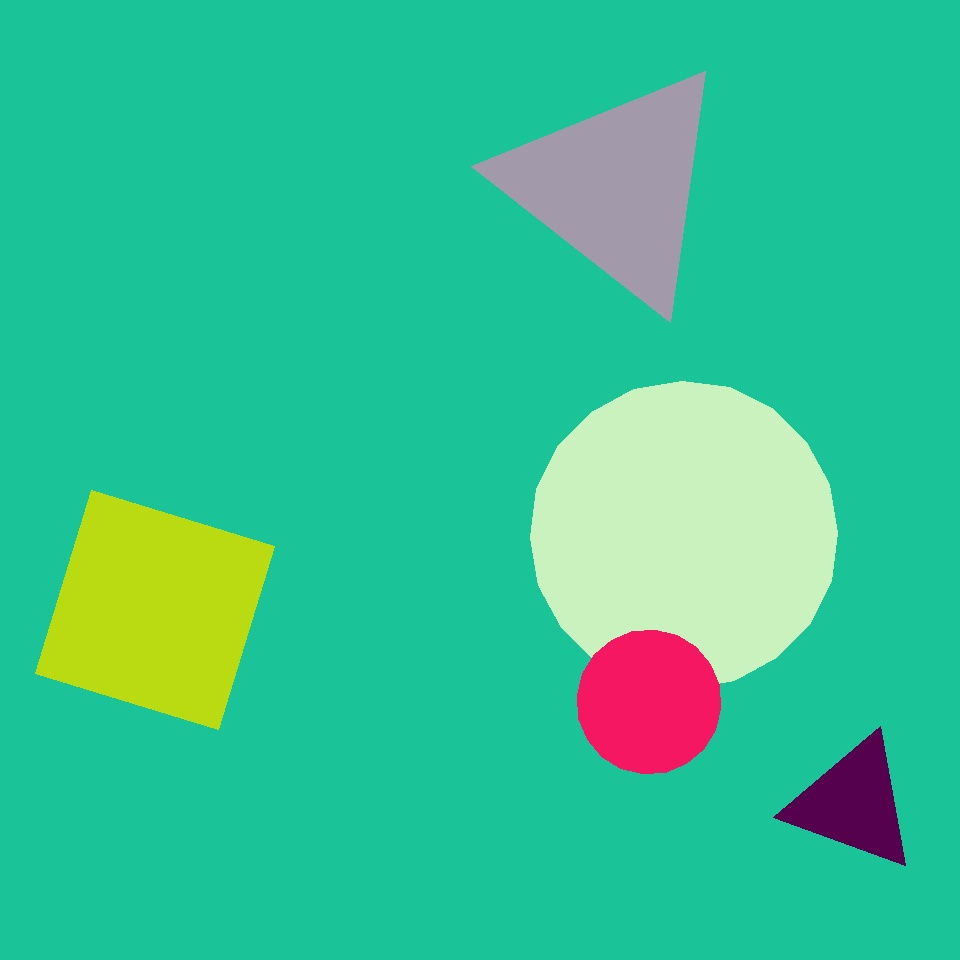circle: (499, 61, 733, 313), (787, 734, 919, 872)
square: (36, 490, 274, 730), (218, 742, 335, 859)
triangle: (530, 381, 838, 688), (578, 630, 720, 774), (170, 673, 302, 805)
